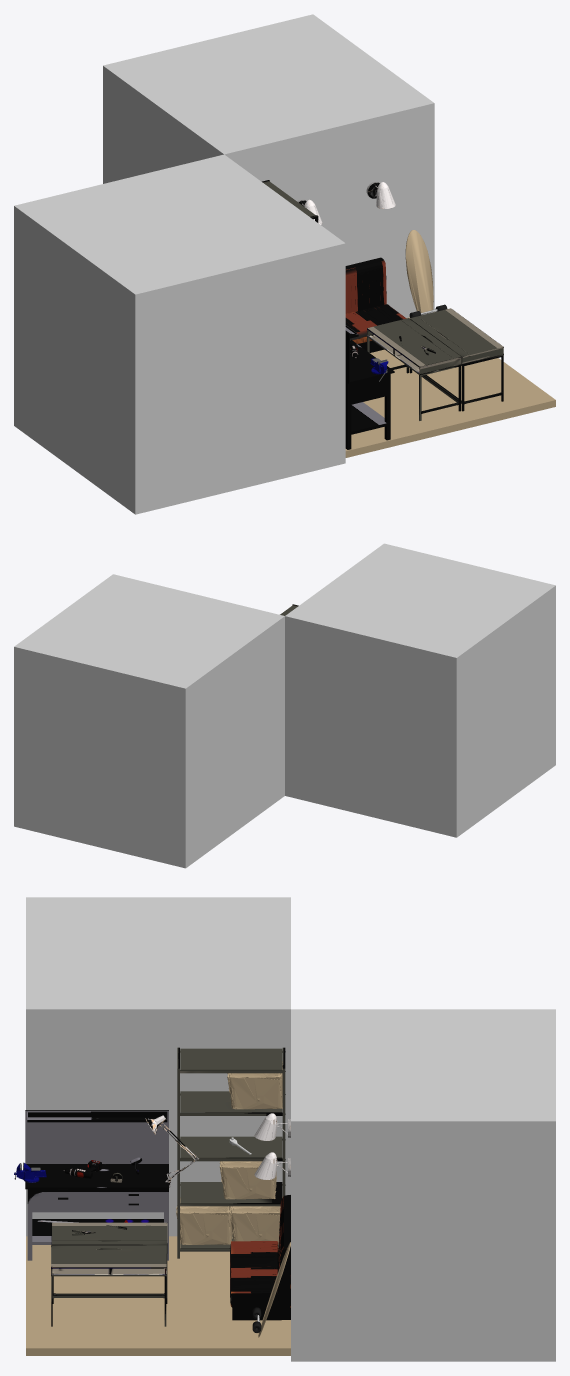
The model's file is sez2_room.glb.
The picture shows the model from 3 angles, top to bottom: view 1: azimuth 30°, elevation 25°; view 2: azimuth 150°, elevation 25°; view 3: azimuth 270°, elevation 25°; orthographic projection. The views are drawn at different scales.
Visible parts, largest first — view 1: Cube.012, Cube.004, Cube.001, desk, bend1.001, canapea, desk.001, Line001; view 2: Cube.004, Cube.012; view 3: Cube.004, Cube.012, Cube.001, bend1.001, steel_frame_shelves_01_1k, canapea, desk.001, desk, cardboard_box_01_1k.001, cardboard_box_01_1k.003, cardboard_box_01_1k, cardboard_box_01_1k.002.
Part boxes in pixels (x1=…): Cube.012: x1=14, y1=154, x2=345, y2=514; Cube.004: x1=103, y1=14, x2=434, y2=317; Cube.001: x1=345, y1=312, x2=555, y2=457; desk: x1=367, y1=318, x2=461, y2=420; bend1.001: x1=345, y1=325, x2=394, y2=449; canapea: x1=345, y1=257, x2=406, y2=352; desk.001: x1=409, y1=308, x2=503, y2=411; Line001: x1=405, y1=230, x2=433, y2=312; Cube.004: x1=14, y1=574, x2=284, y2=868; Cube.012: x1=285, y1=543, x2=555, y2=837; Cube.004: x1=291, y1=1009, x2=555, y2=1361; Cube.012: x1=26, y1=897, x2=290, y2=1236; Cube.001: x1=26, y1=1236, x2=290, y2=1355; bend1.001: x1=25, y1=1110, x2=168, y2=1260; steel_frame_shelves_01_1k: x1=177, y1=1047, x2=285, y2=1258; canapea: x1=230, y1=1195, x2=290, y2=1320; desk.001: x1=51, y1=1245, x2=166, y2=1326; desk: x1=51, y1=1222, x2=167, y2=1303; cardboard_box_01_1k.001: x1=176, y1=1197, x2=232, y2=1244; cardboard_box_01_1k.003: x1=227, y1=1061, x2=282, y2=1109; cardboard_box_01_1k: x1=219, y1=1161, x2=276, y2=1199; cardboard_box_01_1k.002: x1=230, y1=1196, x2=282, y2=1244.
Size of the model in its own units: 4 by 2 by 4.09.
12 materials, 8 textured.
